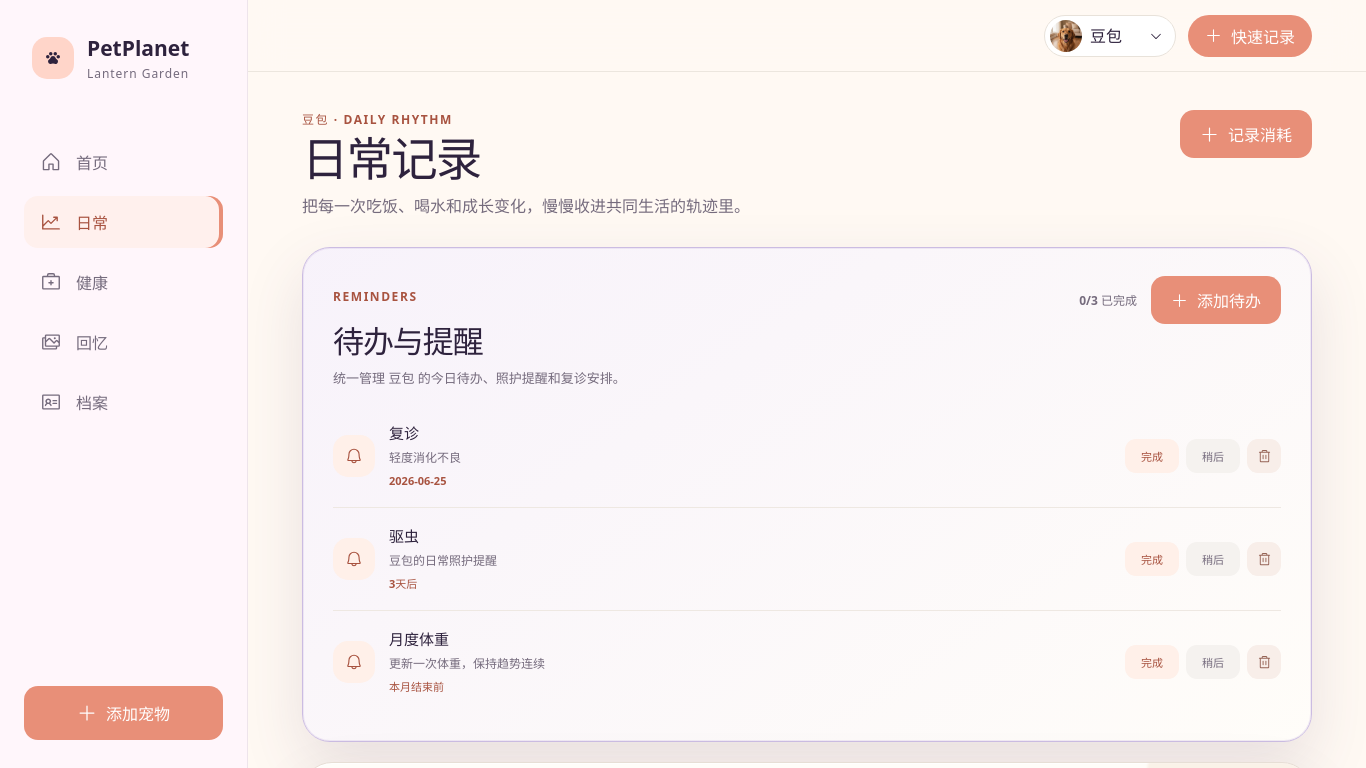
it: PetPlanet app › lets the user complete and postpone reminders from Daily
Click the button with aria-label "完成驱虫": (1152, 559) [1125,542,1179,576]
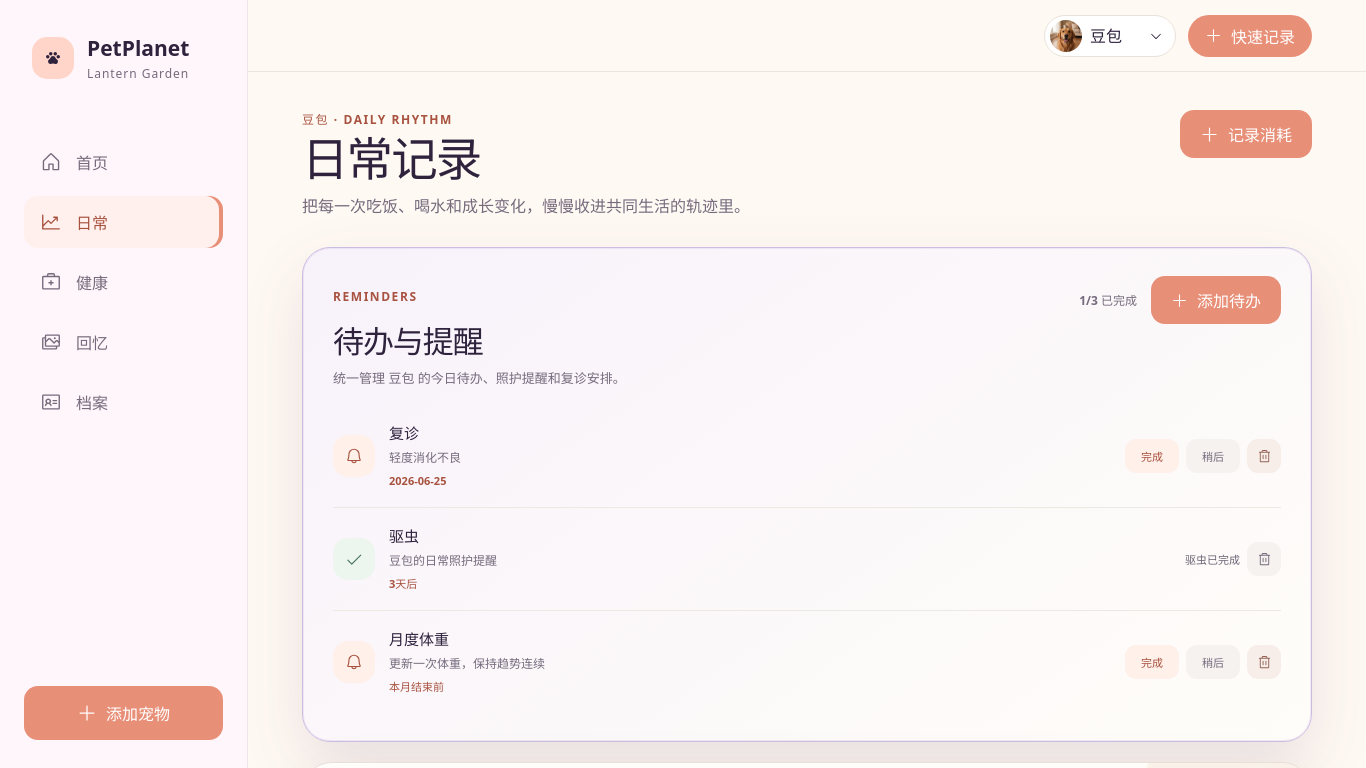
Now the text "驱虫已完成" is shown, box [1185,551,1240,567]
Click the button with aria-label "稍后处理月度体重": (1213, 662) [1186,645,1240,679]
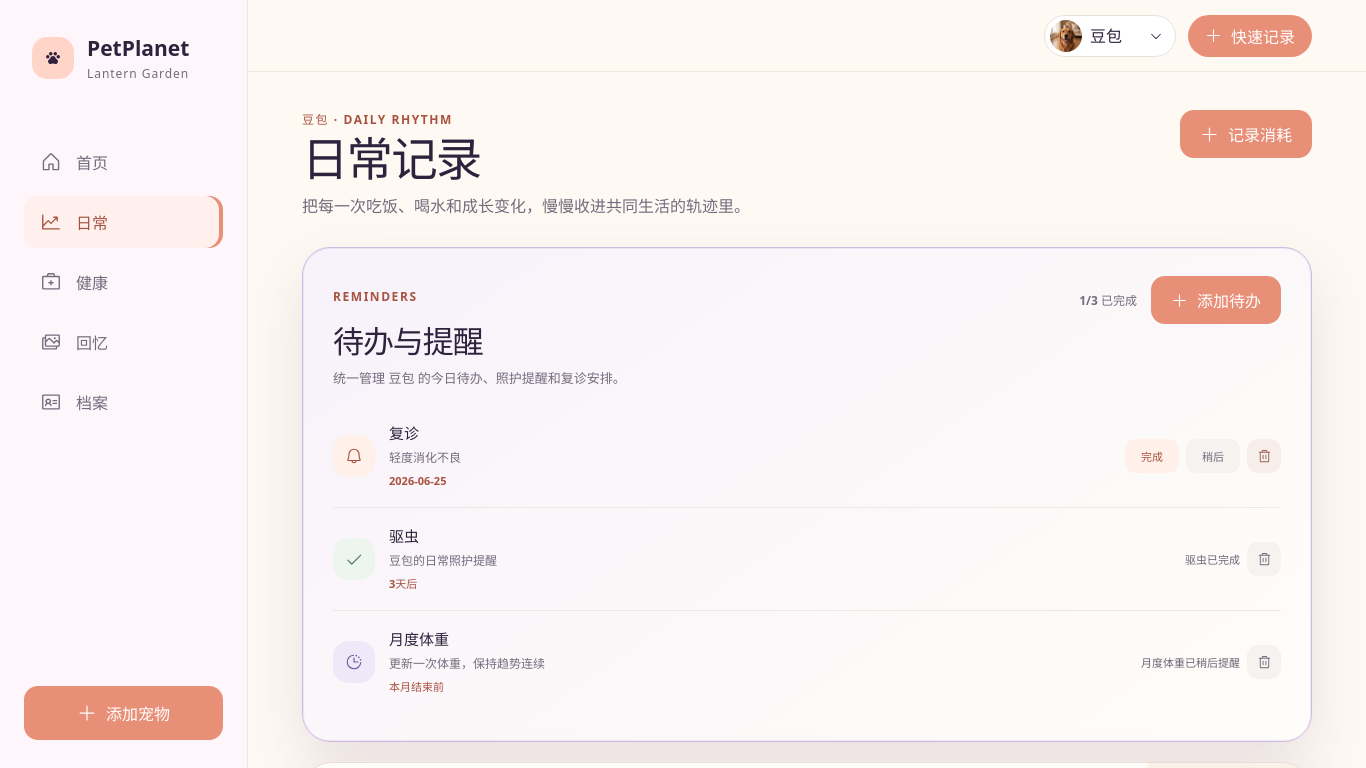
Now the text "月度体重已稍后提醒" is shown, box [1141,654,1240,670]
